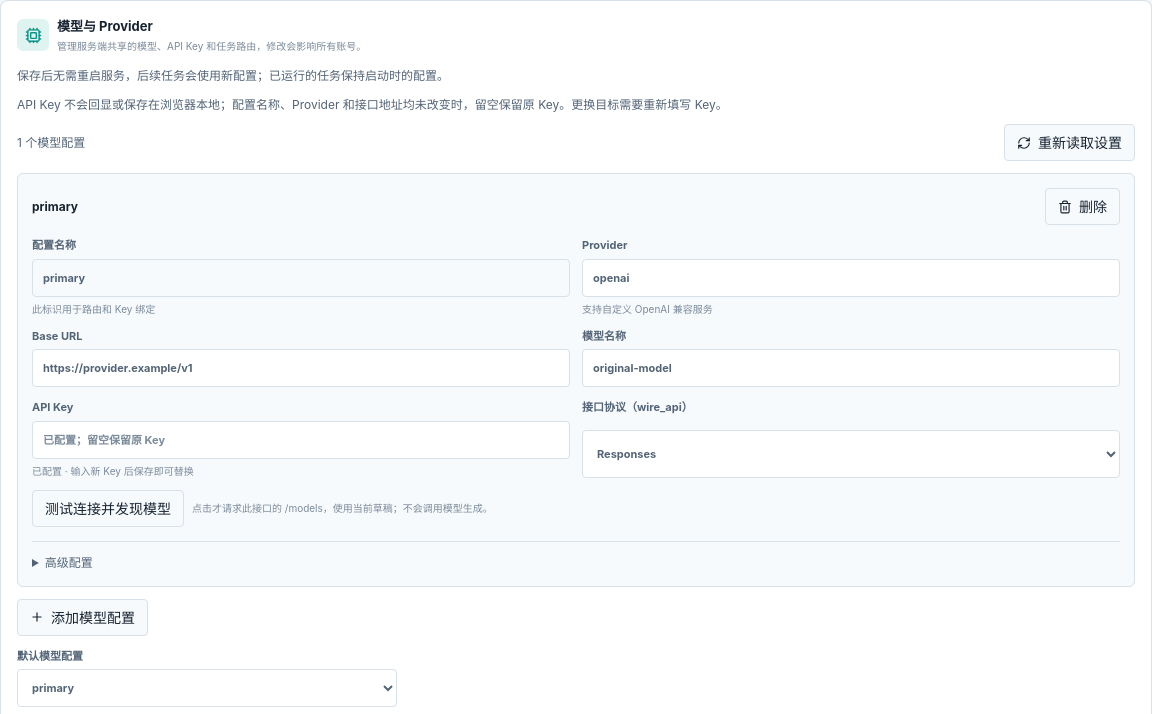
Test: model diagnostics draft workbench › permits equivalent target normalization to retain a hidden key
Replace the text in the field named "primary Base URL" with "https://PROVIDER.EXAMPLE:443/v1/" at (301, 368), box 32,349 -> 570,387
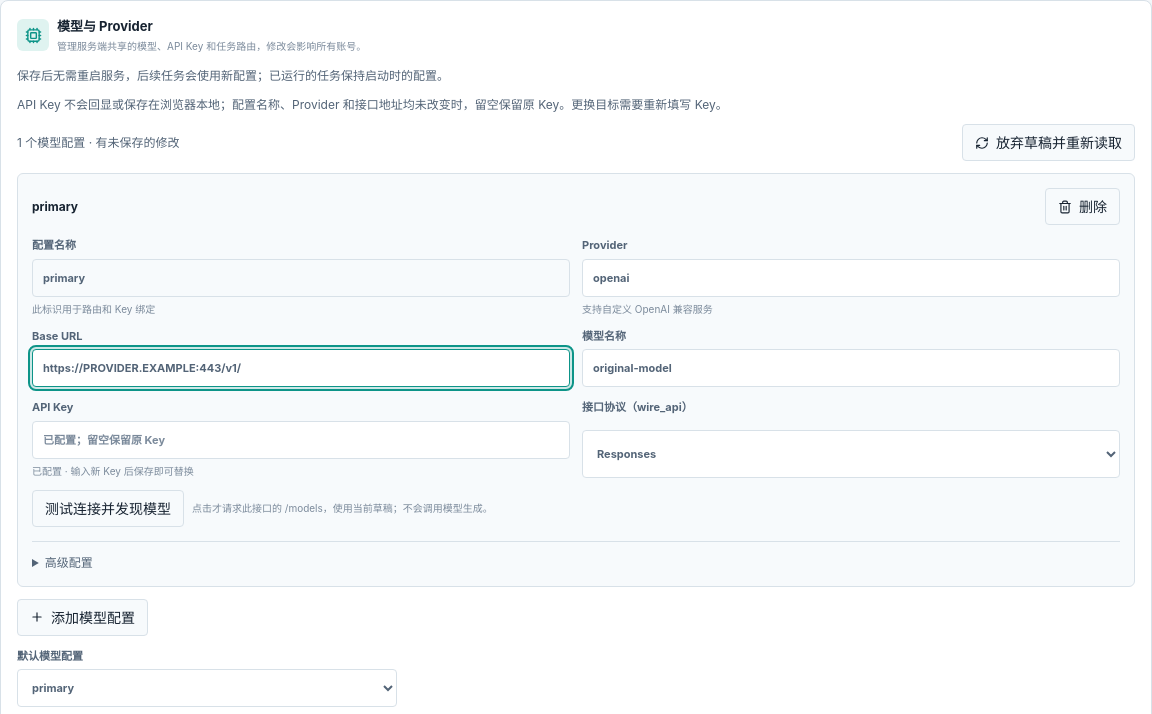
Click the button with aria-label "测试 primary 连接并发现模型" at (108, 508), box 32,490 -> 184,527
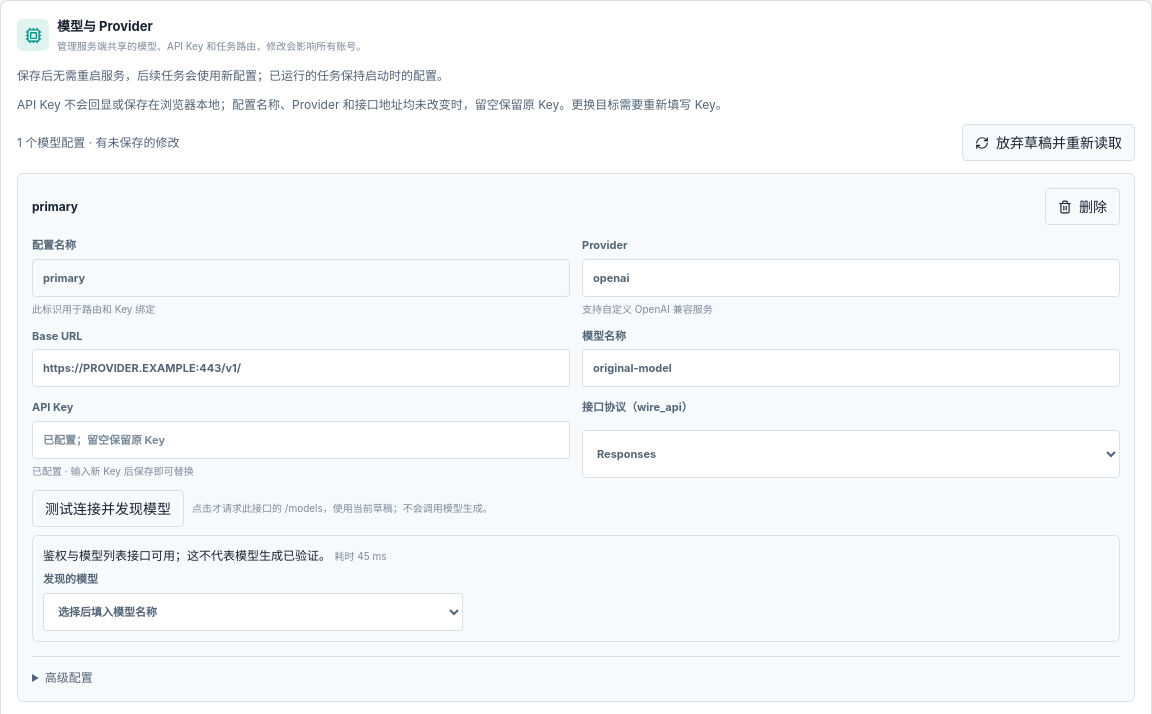
Check: the dropdown named "primary 发现的模型" is shown, box 43,593 -> 463,631
